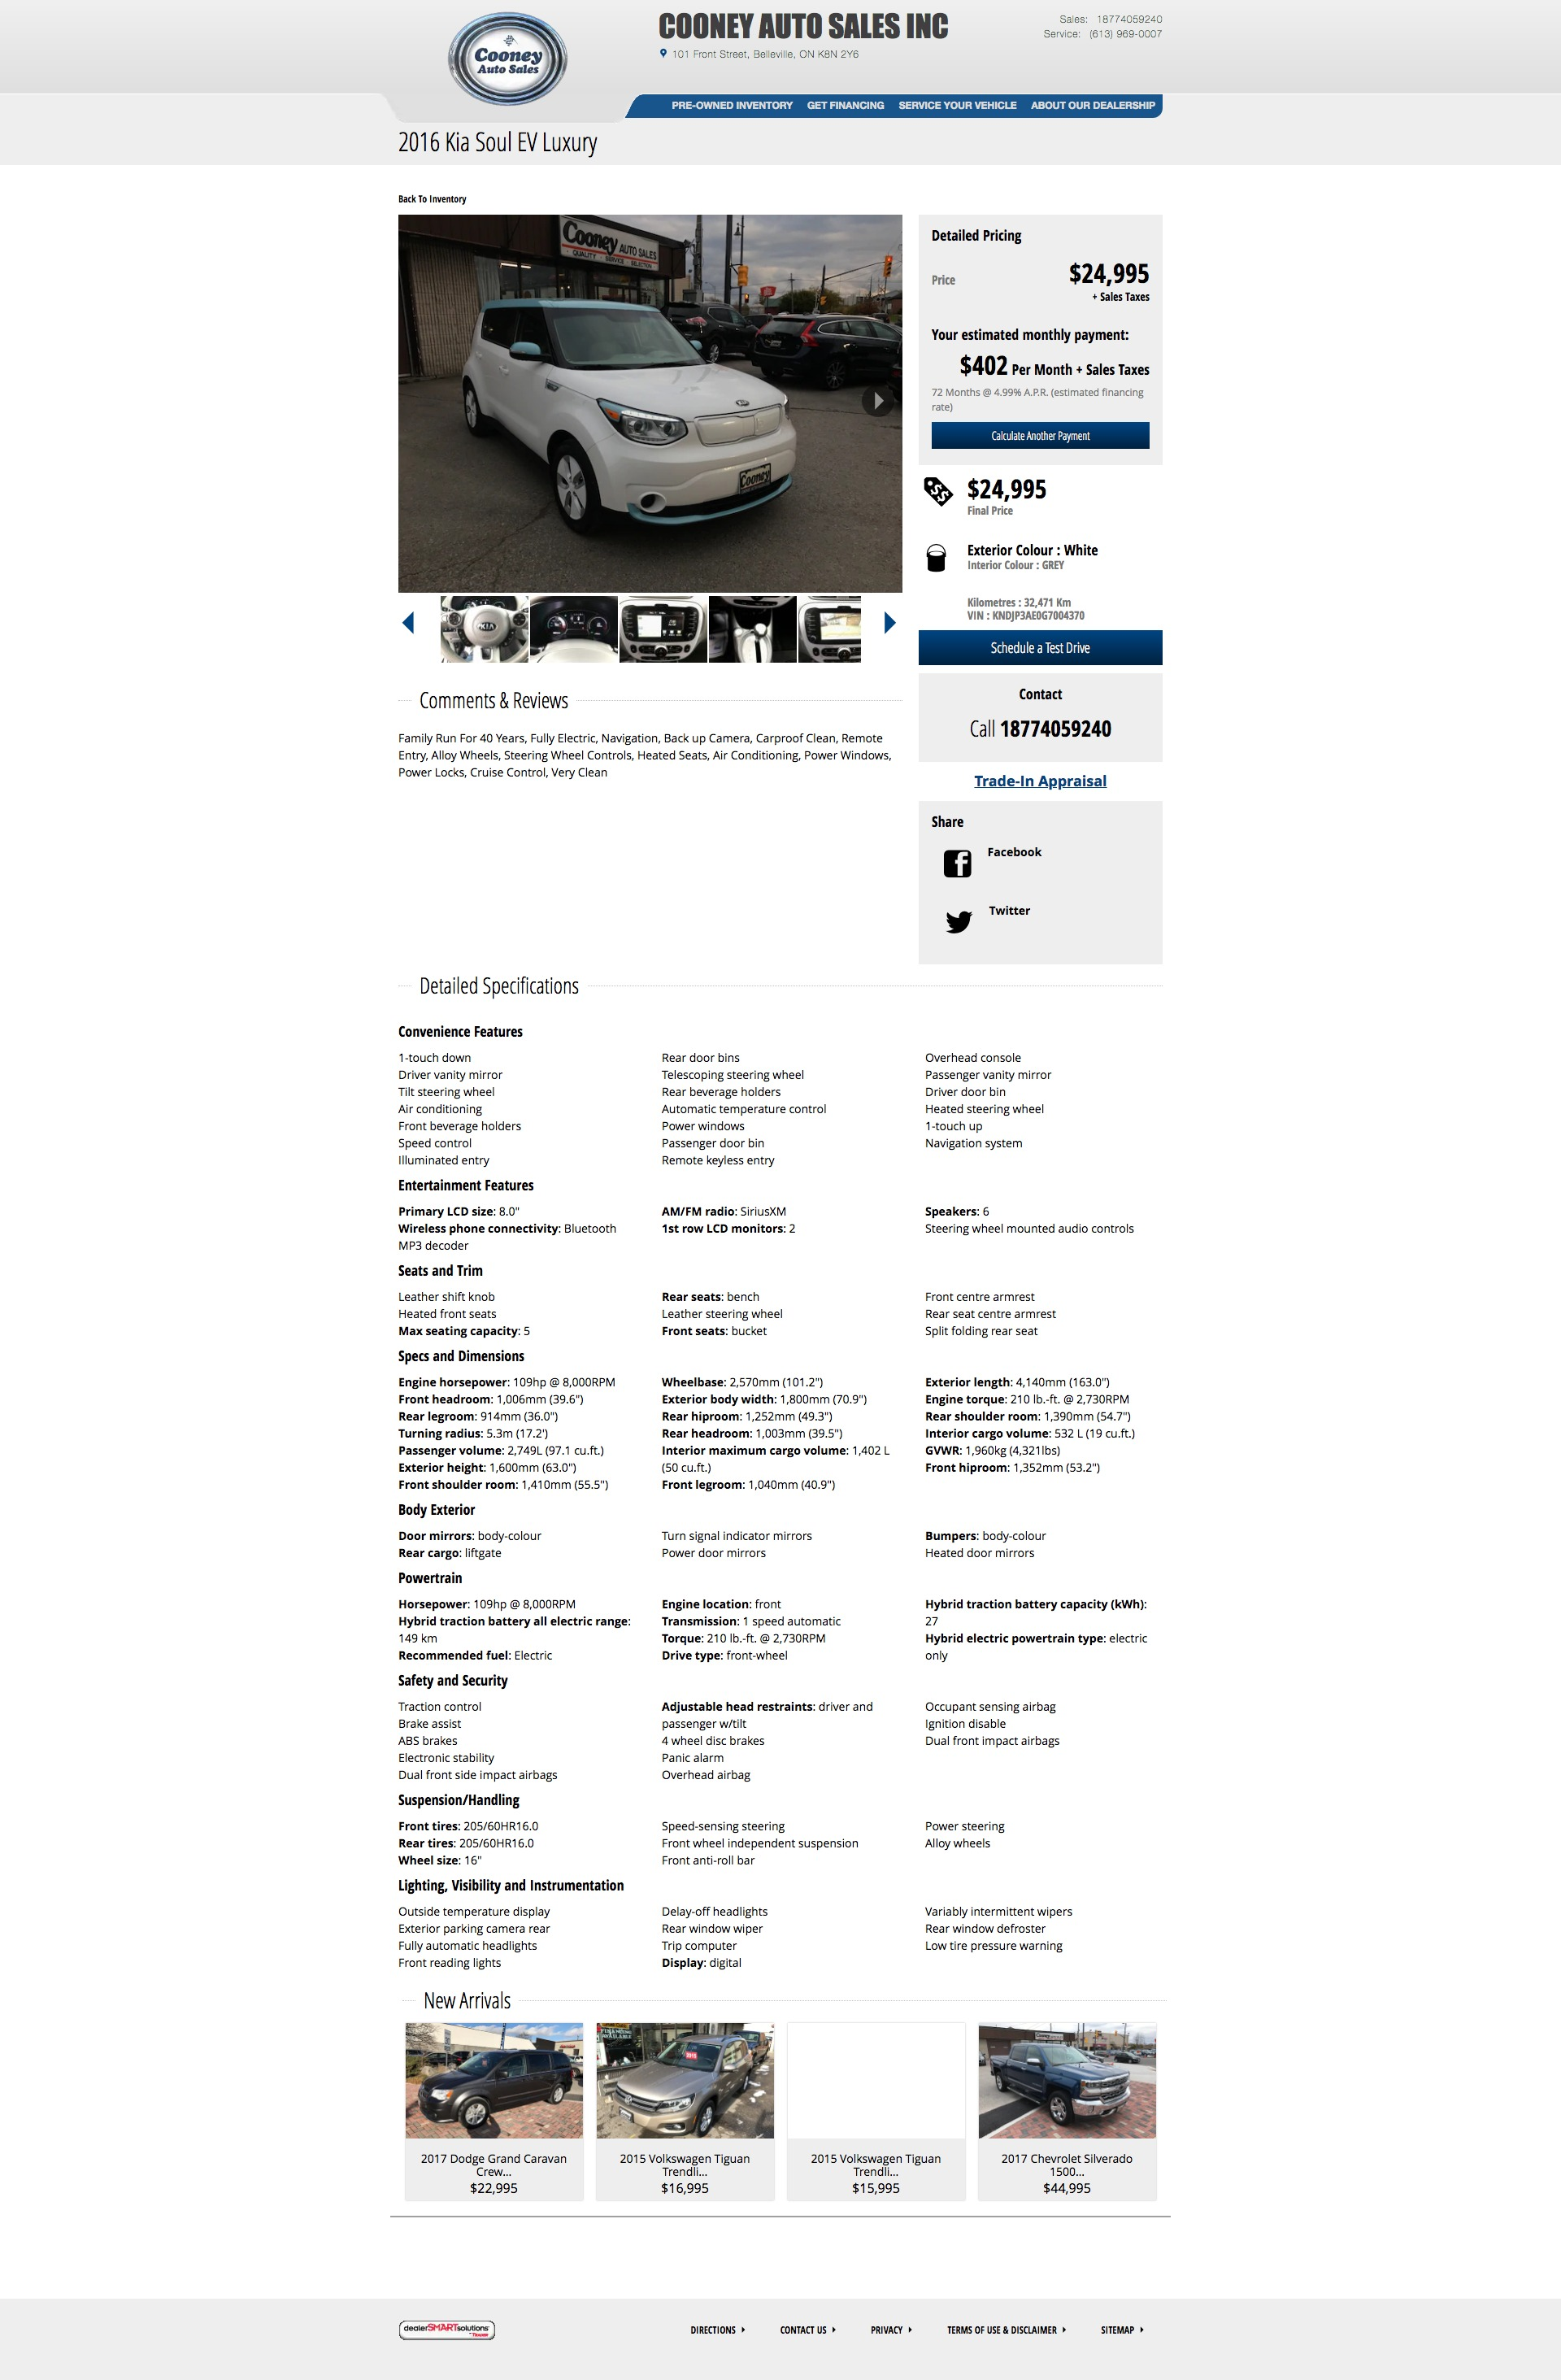car: (883, 612, 897, 634)
